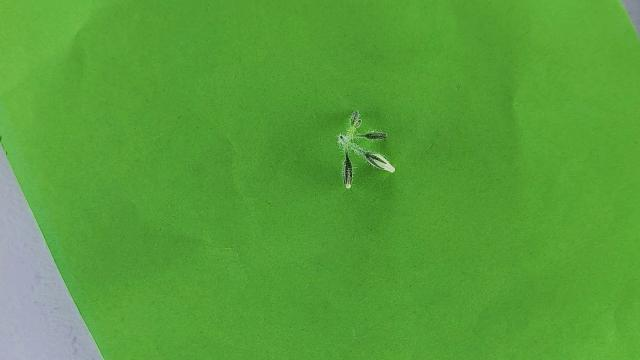Flower Bud: (363, 151, 395, 174), (341, 146, 353, 189), (357, 131, 388, 140)
